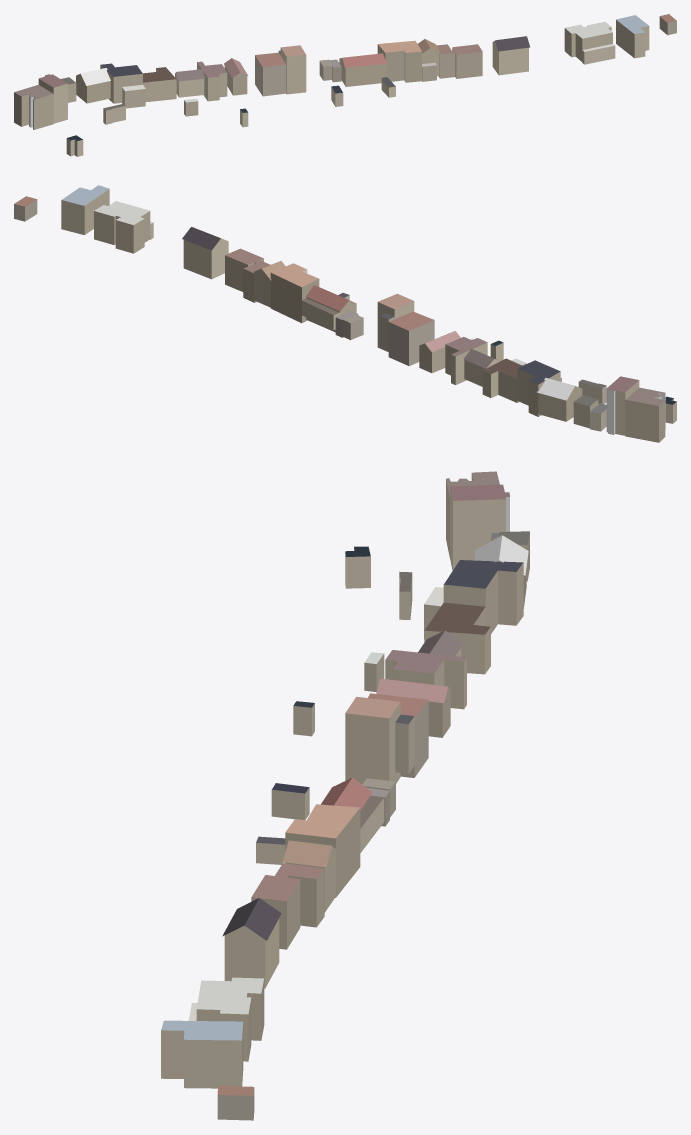
3 renders of one model, top to bottom at view 1: azimuth 30°, elevation 25°; view 2: azimuth 150°, elevation 25°; view 3: azimuth 270°, elevation 25°, orthographic. The views are drawn at different scales.
Visible parts, largest first — view 1: tuile; view 2: tuile; view 3: tuile.
Boxes of the visible parts, x1,y1,x2,y2 form: tuile: (14, 14, 676, 156); tuile: (14, 185, 676, 442); tuile: (161, 471, 529, 1120).
Bounding box in the file's own units: 236 × 18.72 × 63.31.
